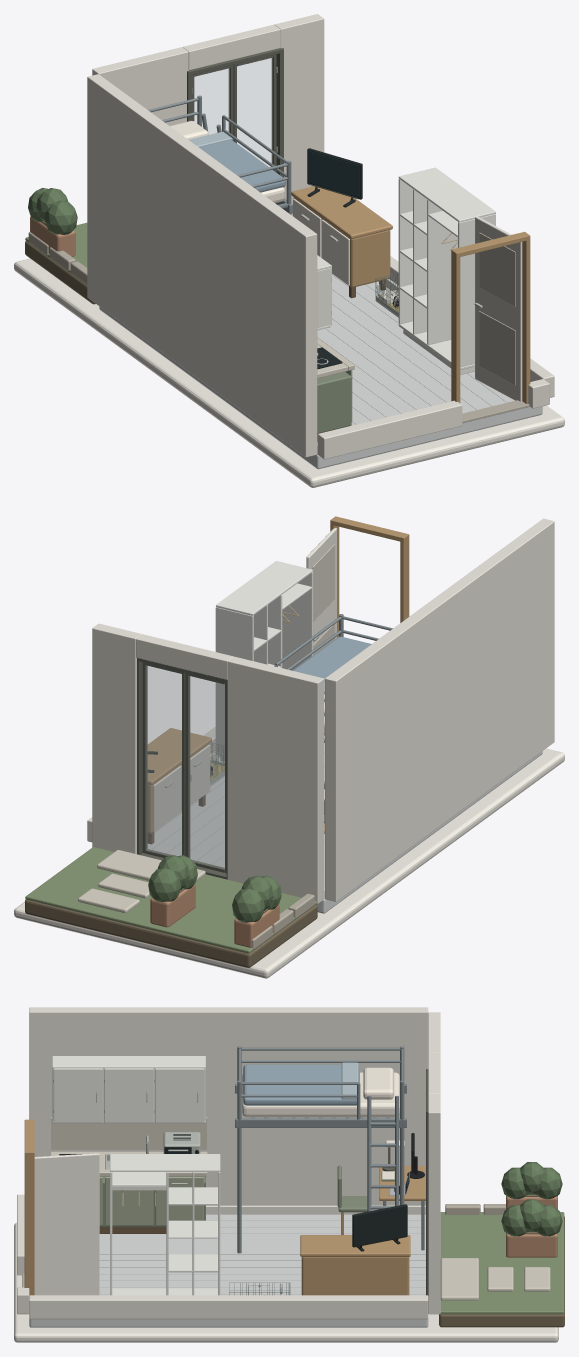
The model's file is room-06.glb.
The picture shows the model from 3 angles, top to bottom: view 1: azimuth 30°, elevation 25°; view 2: azimuth 150°, elevation 25°; view 3: azimuth 270°, elevation 25°; orthographic projection. The views are drawn at different scales.
Parts seen in each view (by area): view 1: Architecture, CombinationCabinet, Entrance, GardenDoor, TVCabinet, Garden, LoftBed, Kitchen, Television, UpperKitchenCabinet, Cage; view 2: Architecture, Garden, GardenDoor, CombinationCabinet, TVCabinet, Entrance, LoftBed; view 3: Architecture, Garden, LoftBed, Entrance, Kitchen, UpperKitchenDoors, CombinationCabinet, TVCabinet, UpperKitchenCabinet, Television, Ladder, Desk (+3 smaller).
Part boxes in pixels (x1,y1,x2,y2): Architecture: (14, 14, 564, 487); CombinationCabinet: (398, 167, 495, 374); Entrance: (451, 216, 530, 423); GardenDoor: (187, 48, 283, 187); TVCabinet: (291, 186, 392, 298); Garden: (25, 188, 95, 304); LoftBed: (148, 95, 293, 214); Kitchen: (317, 338, 354, 441); Television: (307, 148, 362, 207); UpperKitchenCabinet: (317, 256, 330, 330); Cage: (375, 273, 398, 317); Architecture: (14, 518, 564, 978); Garden: (25, 847, 317, 967); GardenDoor: (137, 658, 227, 879); CombinationCabinet: (215, 561, 313, 761); TVCabinet: (147, 728, 211, 844); Entrance: (306, 516, 409, 654); LoftBed: (274, 614, 392, 742); Architecture: (14, 1007, 558, 1342); Garden: (439, 1162, 564, 1327); LoftBed: (235, 1046, 406, 1253); Entrance: (22, 1119, 99, 1295); Kitchen: (51, 1117, 207, 1233); UpperKitchenDoors: (53, 1068, 204, 1122); CombinationCabinet: (110, 1154, 220, 1295); TVCabinet: (300, 1235, 410, 1295); UpperKitchenCabinet: (52, 1056, 205, 1123); Television: (352, 1204, 407, 1251); Ladder: (367, 1095, 398, 1211); Desk: (379, 1140, 425, 1250).
Bounding box in the file's own units: 3.5 × 3.23 × 7.18.
